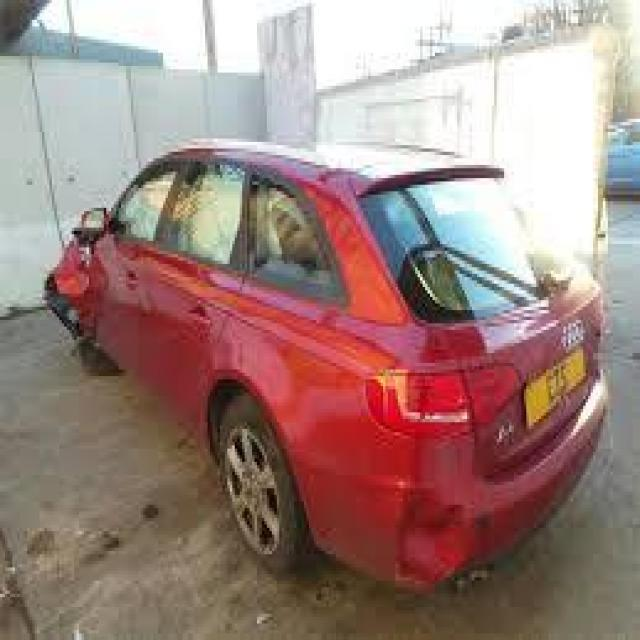damaged: (395, 482, 477, 584), (42, 237, 109, 340)
